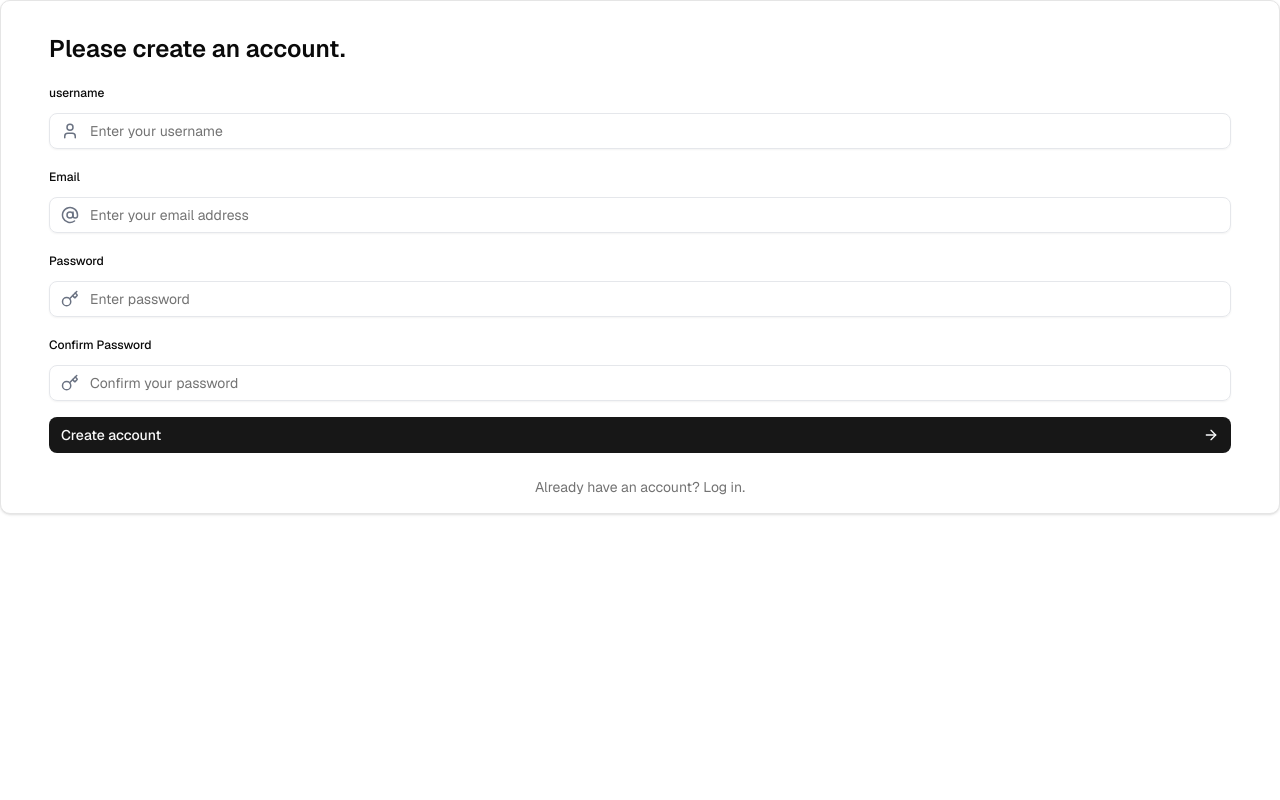
SignUpForm › handles API errors from backend
The width and height of the screenshot is (1280, 800).
Fill in all required fields
Type "testuser" into the field labelled "username" at (640, 131), box [49, 113, 1231, 149]
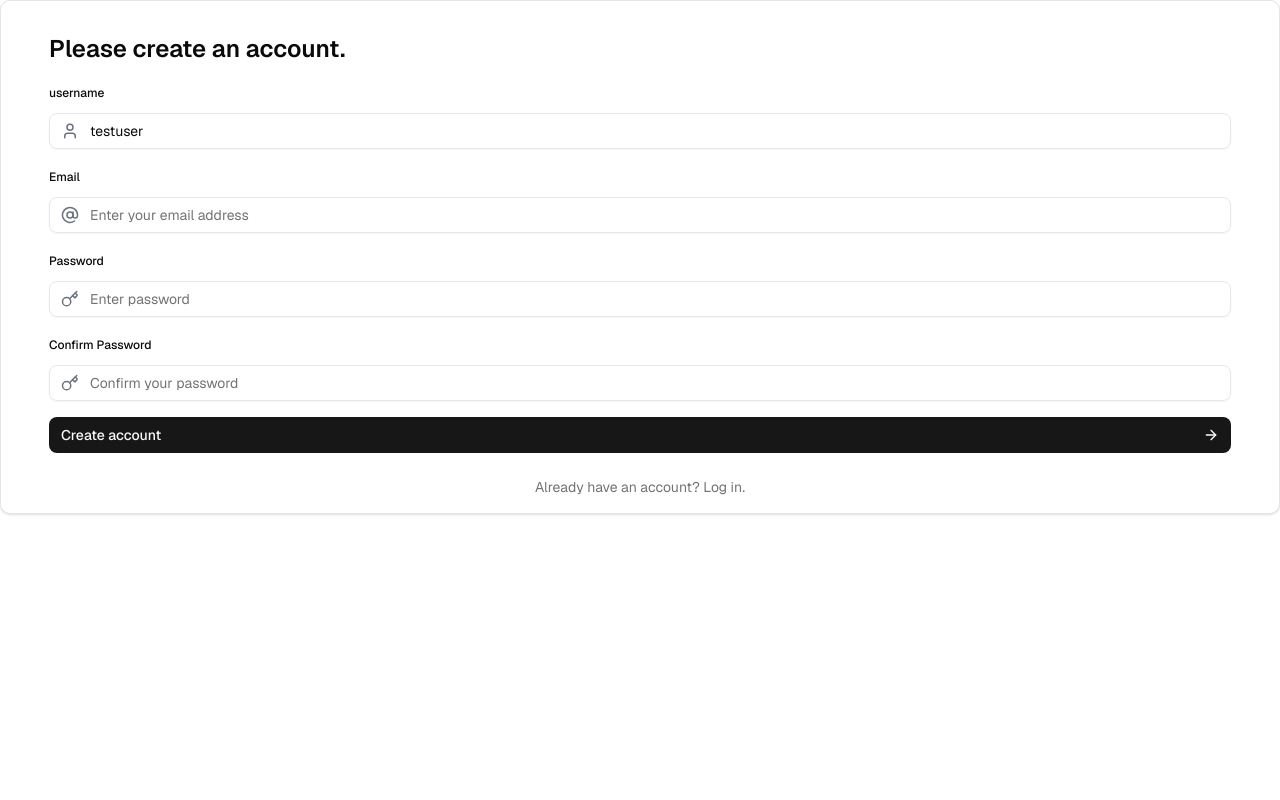
Type "john@example.com" into the field labelled "Email" at (640, 215), box [49, 197, 1231, 233]
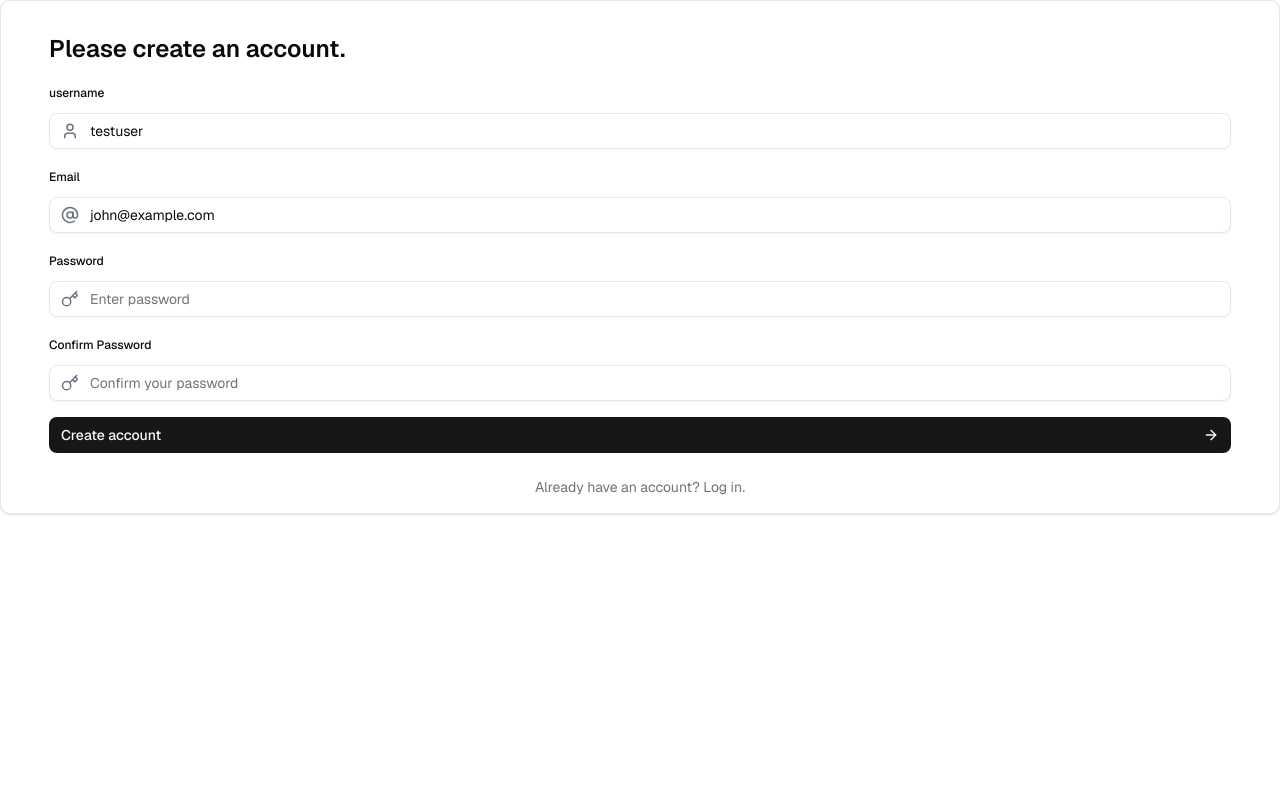
Type "Password123!@#" into the password field labelled "Password" at (640, 299), box [49, 281, 1231, 317]
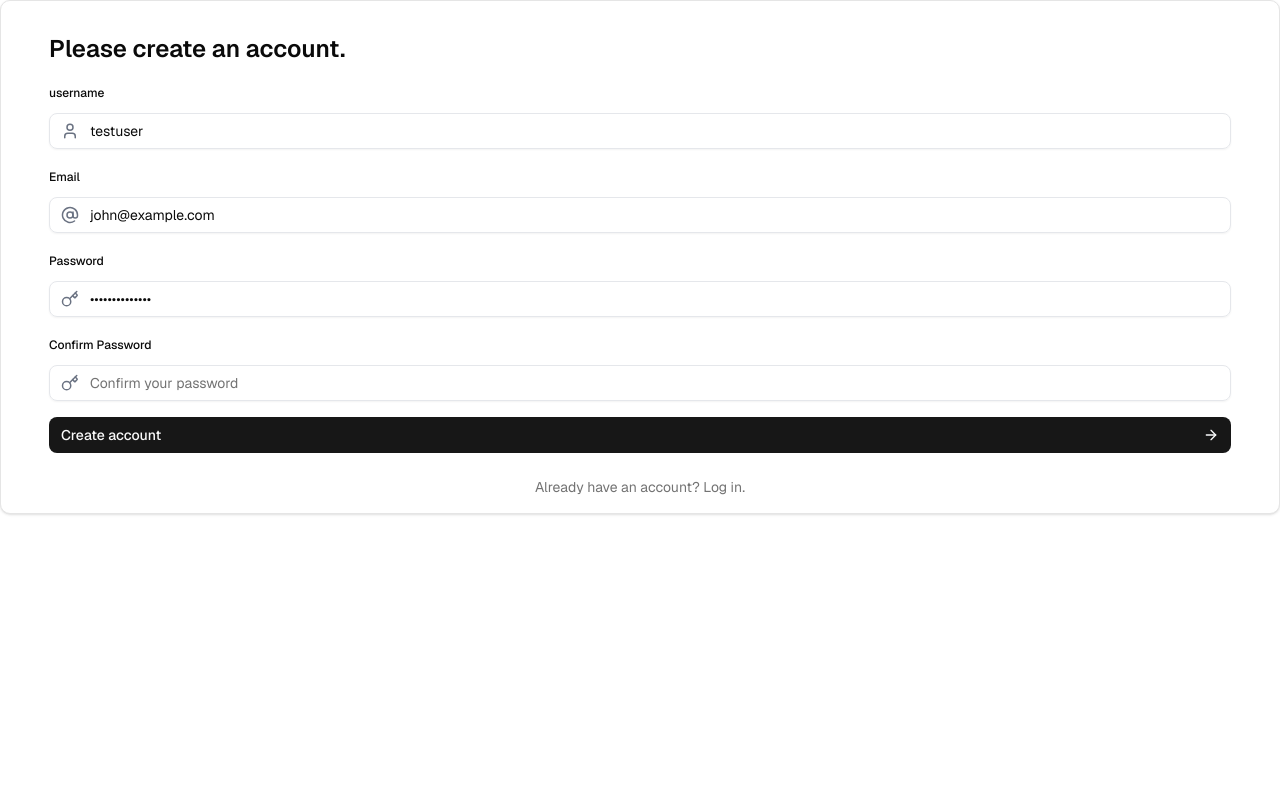
Type "Password123!@#" into the password field labelled "Confirm Password" at (640, 383), box [49, 365, 1231, 401]
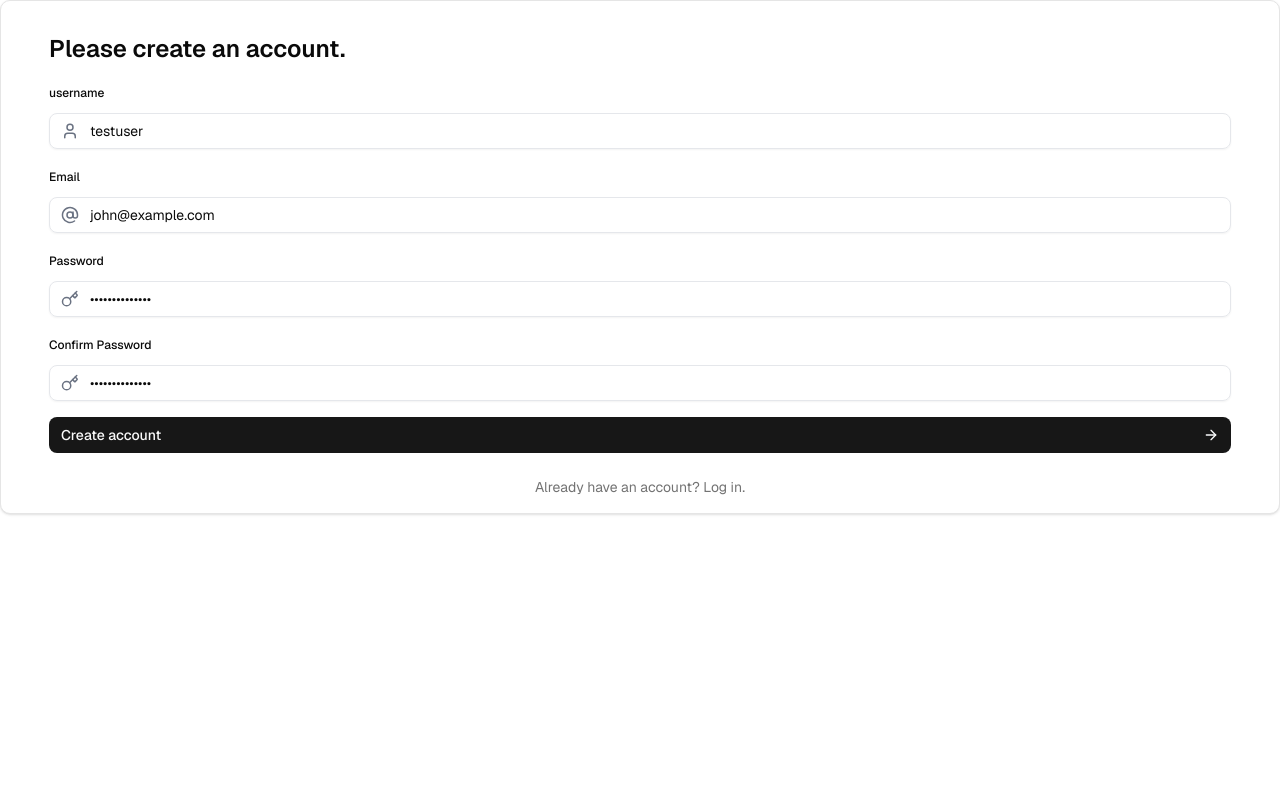
Click the button "Create account" at (111, 435), box [49, 417, 1231, 453]
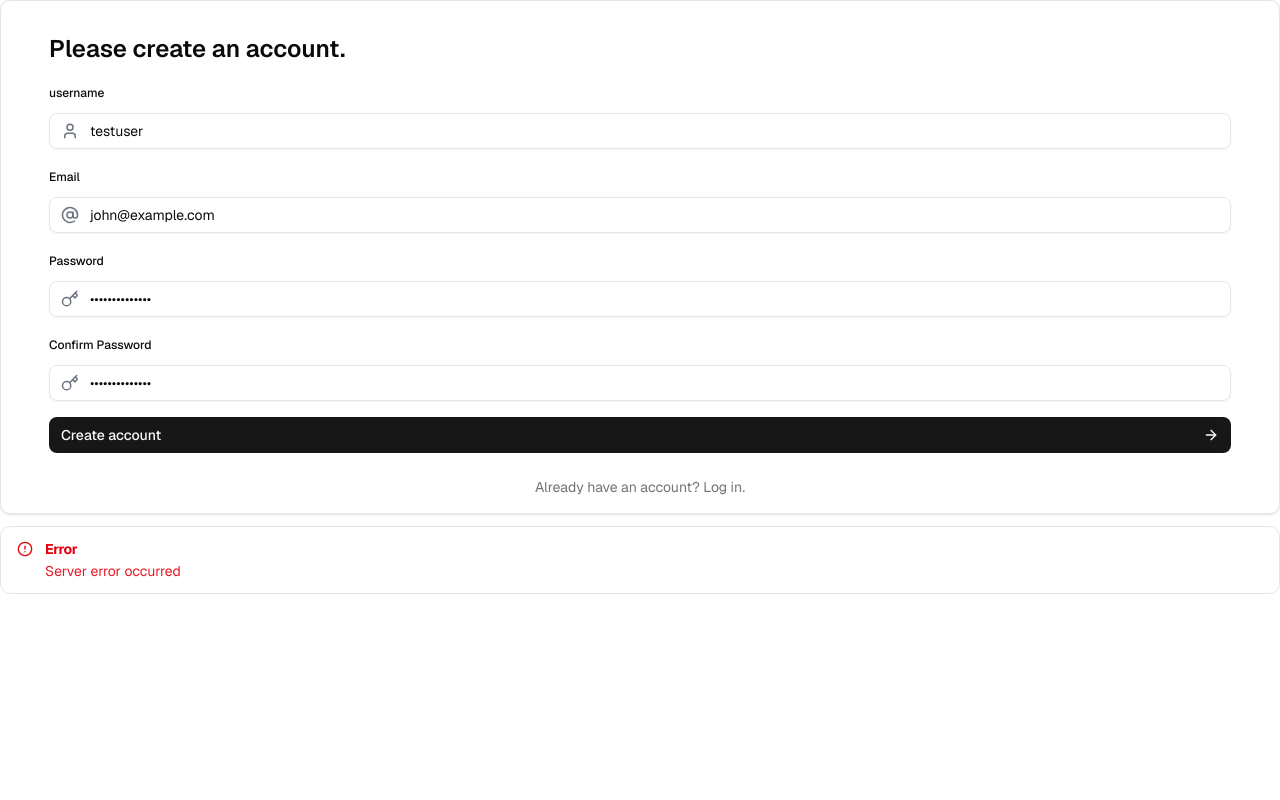
expect the text "Server error occurred" is shown: met, box [45, 561, 181, 581]
